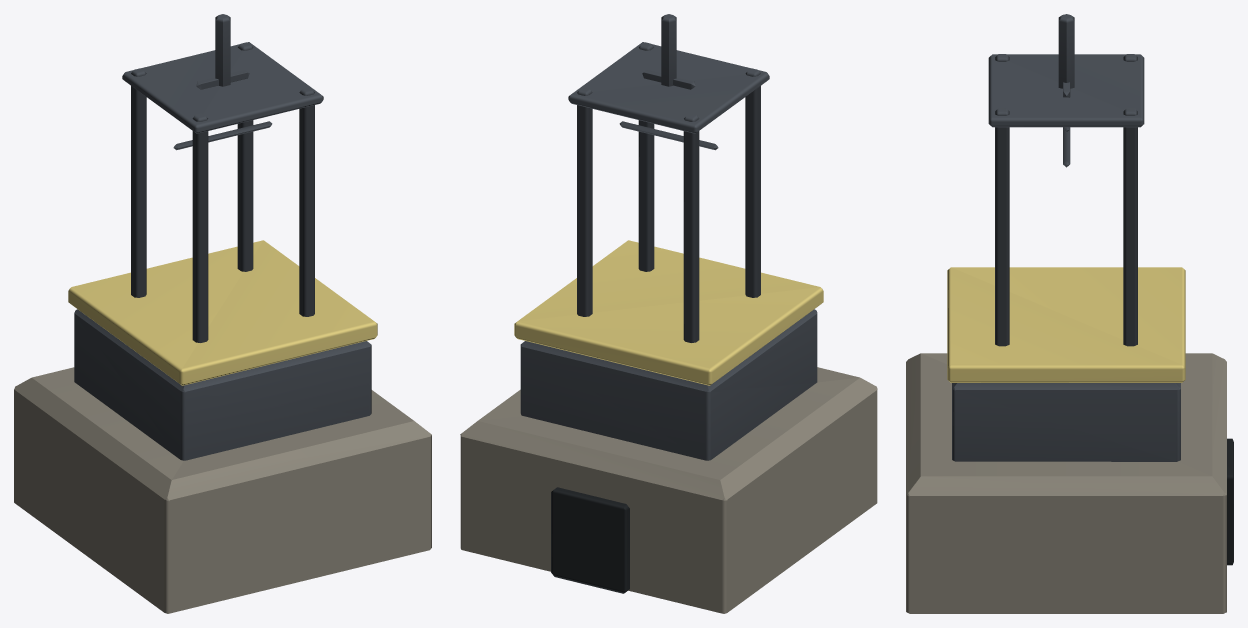
Rendered from comms_outpost.glb.
3 renders of one model, left to right at view 1: azimuth 30°, elevation 25°; view 2: azimuth 150°, elevation 25°; view 3: azimuth 270°, elevation 25°, orthographic. The views are drawn at different scales.
Visible parts, largest first — view 1: Body; view 2: Body; view 3: Body.
Part boxes in pixels (<box>): Body: <box>14,14,431,613</box>; Body: <box>460,14,877,613</box>; Body: <box>906,14,1233,613</box>.
Bounding box in the file's own units: 3.5 × 6.4 × 3.58.
